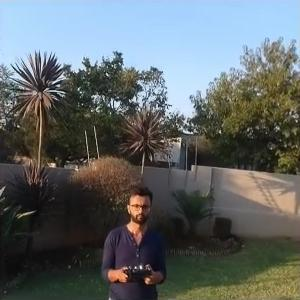follow: (97, 182, 168, 299)
